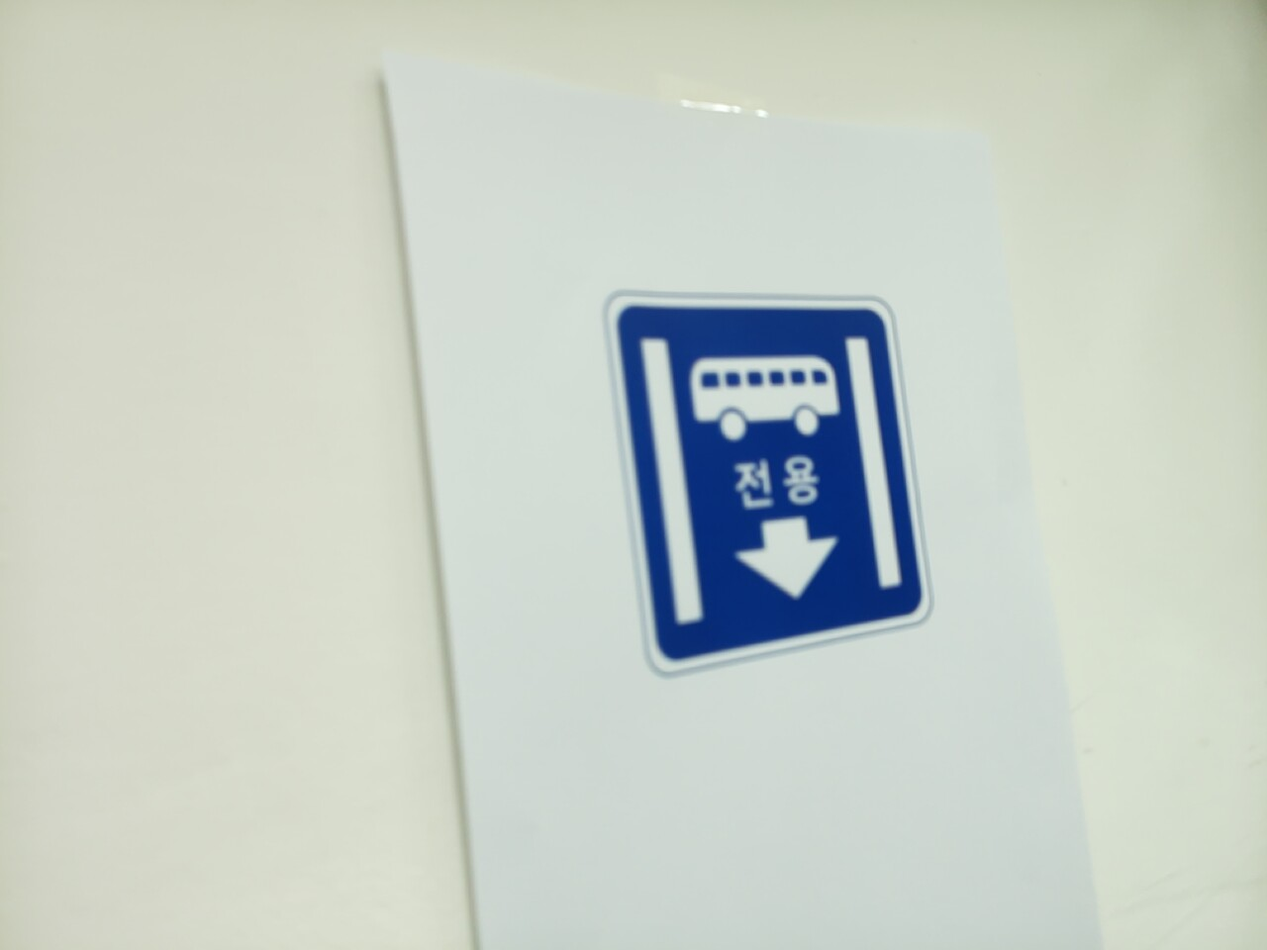bus_only_lane: (607, 295, 931, 671)
